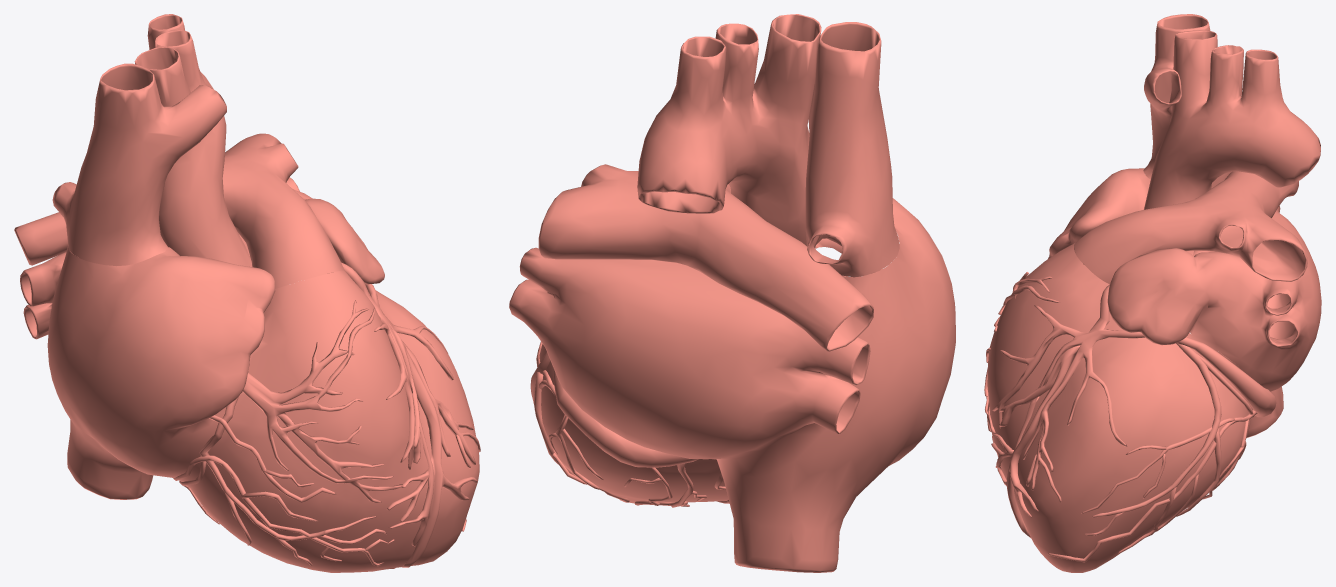
File: heart.gltf
3 renders of one model, left to right at view 1: azimuth 30°, elevation 25°; view 2: azimuth 150°, elevation 25°; view 3: azimuth 270°, elevation 25°, orthographic. The views are drawn at different scales.
Visible parts, largest first — view 1: sub01_0; view 2: sub01_0; view 3: sub01_0.
Boxes of the visible parts, left/top/right/bottom form: sub01_0: left=14, top=14, right=480, bottom=572; sub01_0: left=509, top=14, right=955, bottom=572; sub01_0: left=984, top=14, right=1321, bottom=572.
Size of the model in its own units: 5.9 by 8.05 by 5.42.
